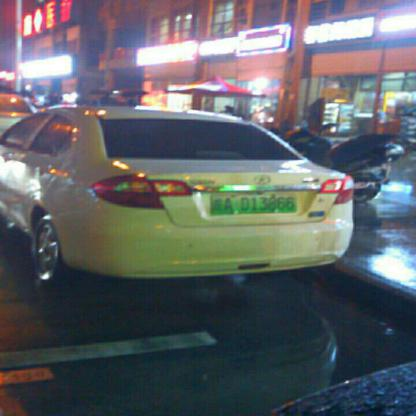lp: (212, 192, 297, 215)
